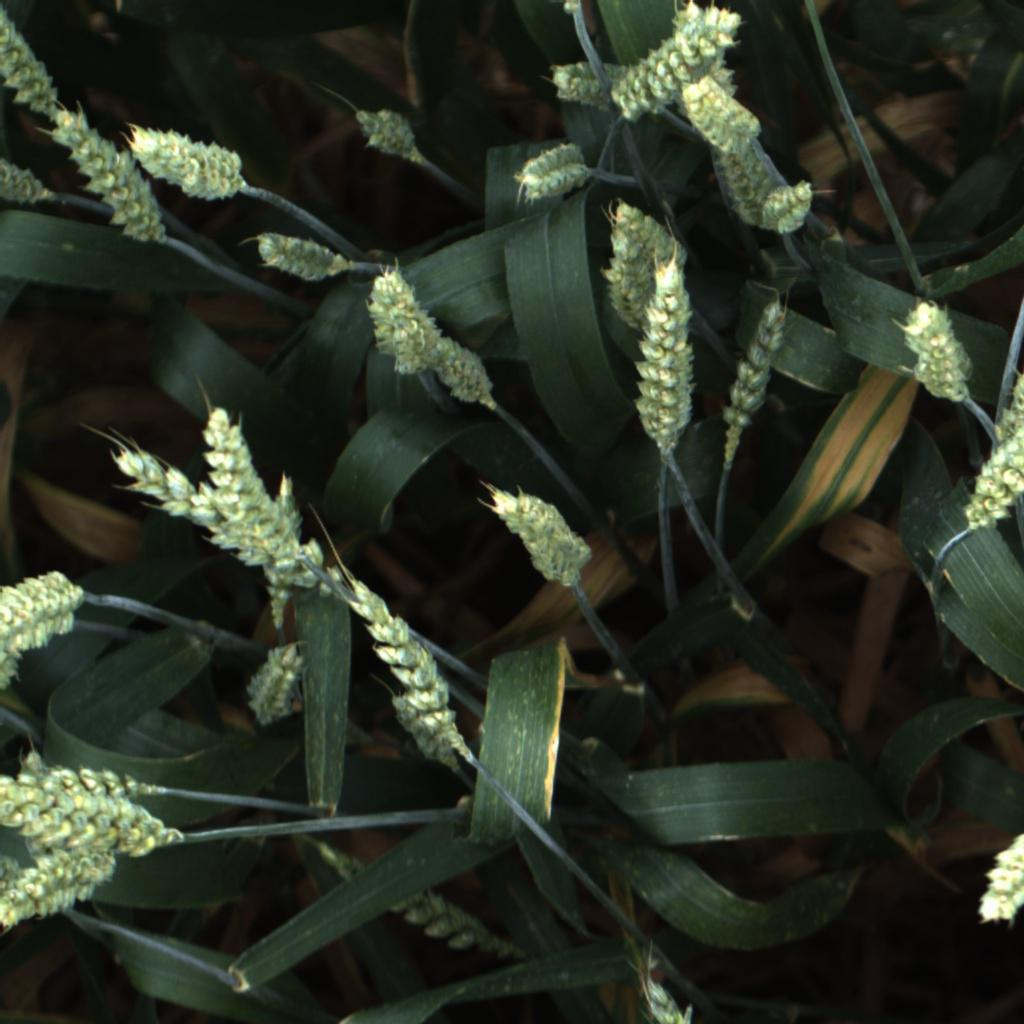0-0: (103, 430, 344, 600), (319, 838, 528, 965), (344, 576, 481, 766), (44, 105, 165, 247), (608, 3, 748, 125), (0, 772, 175, 869), (631, 255, 705, 459), (197, 401, 278, 571), (714, 302, 791, 462), (0, 843, 124, 936), (487, 484, 591, 590), (121, 121, 247, 202), (12, 745, 167, 810), (710, 127, 799, 239), (897, 295, 973, 407), (254, 473, 306, 629), (367, 259, 432, 377), (667, 1, 741, 104), (601, 221, 667, 336), (968, 404, 1024, 535), (0, 562, 90, 641), (0, 7, 64, 113), (607, 192, 692, 270), (241, 635, 310, 726), (390, 691, 463, 775), (546, 54, 646, 115), (678, 81, 769, 146), (968, 826, 1024, 929), (430, 328, 497, 409), (250, 231, 342, 287), (347, 104, 424, 163), (516, 142, 587, 204), (0, 148, 56, 213), (760, 179, 819, 238), (0, 614, 76, 659), (636, 972, 695, 1024), (998, 370, 1024, 453), (0, 644, 24, 697)
